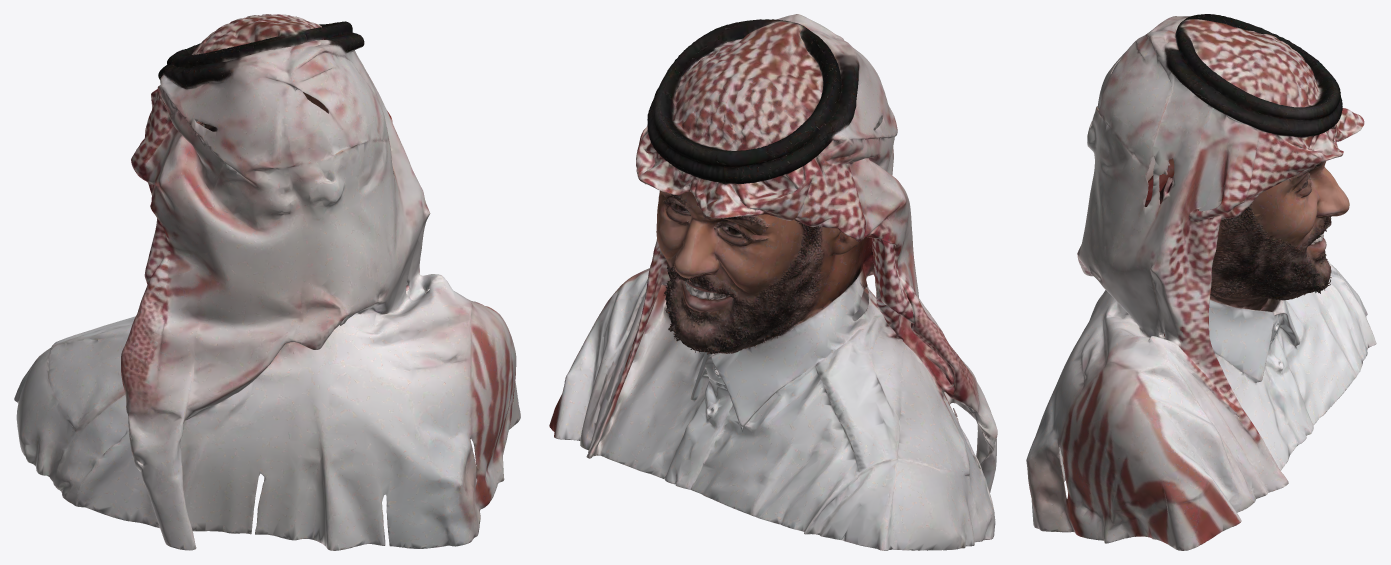
The model's file is Yassir.preview-v1.glb.
3 views of the same model, side by side, from view 1: azimuth 30°, elevation 25°; view 2: azimuth 150°, elevation 25°; view 3: azimuth 270°, elevation 25° (orthographic). The views are drawn at different scales.
Visible parts, largest first — view 1: world; view 2: world; view 3: world.
Part boxes in pixels (<box>): world: <box>14,14,520,550</box>; world: <box>549,14,997,550</box>; world: <box>1026,14,1376,550</box>.
Size of the model in its own units: 0.8542 by 0.8798 by 0.6088.
Materials: 1 (1 with a texture image).
